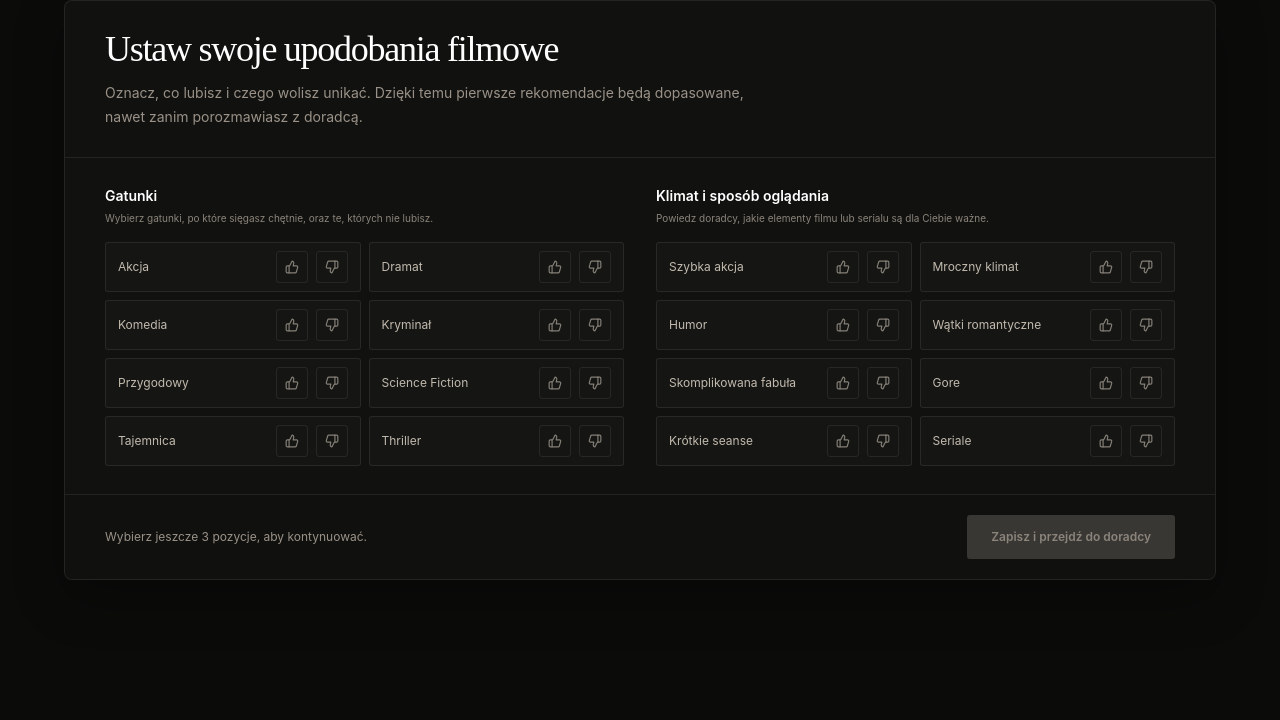
TasteOnboardingPanel › requires at least one liked and one disliked choice
The image size is (1280, 720).
What coordinates should you click on to do the following:
click the button named "Lubię: Thriller"
I would click on:
 (555, 441)
Its box is [539,425,571,457].
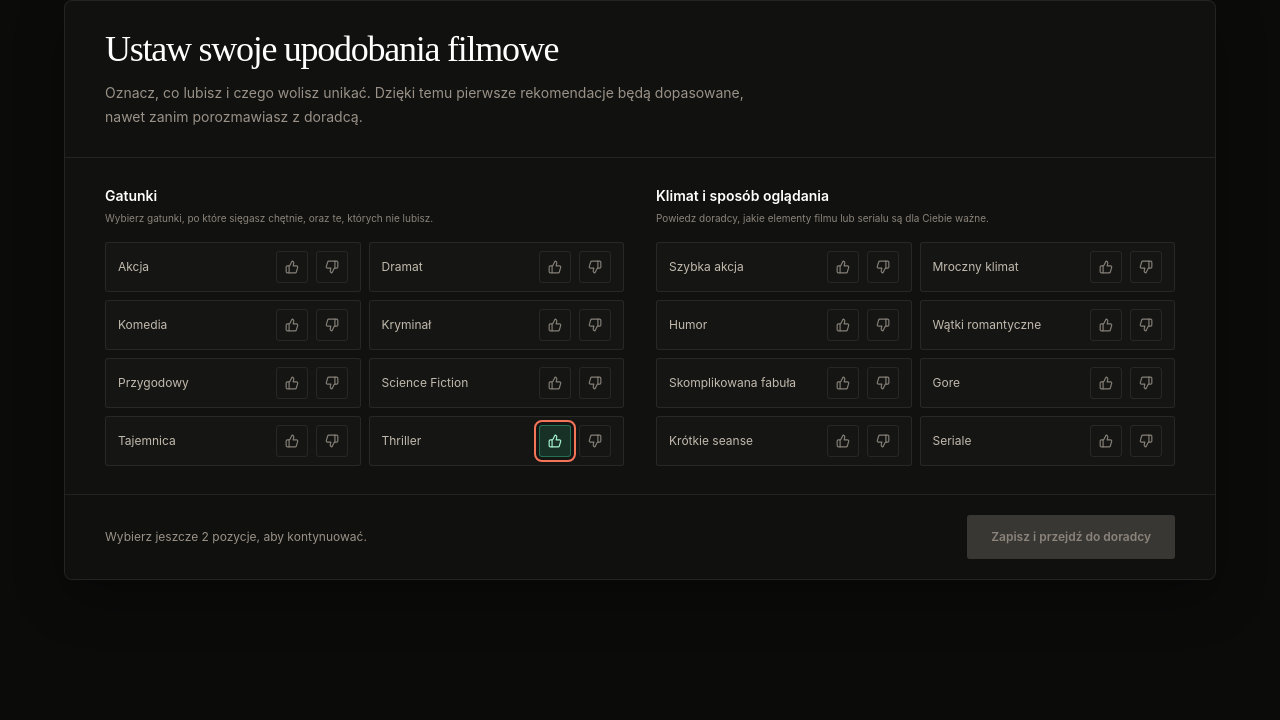
What coordinates should you click on to do the following:
click the button named "Lubię: Komedia"
I would click on:
 (292, 325)
Its box is [276,309,308,341].
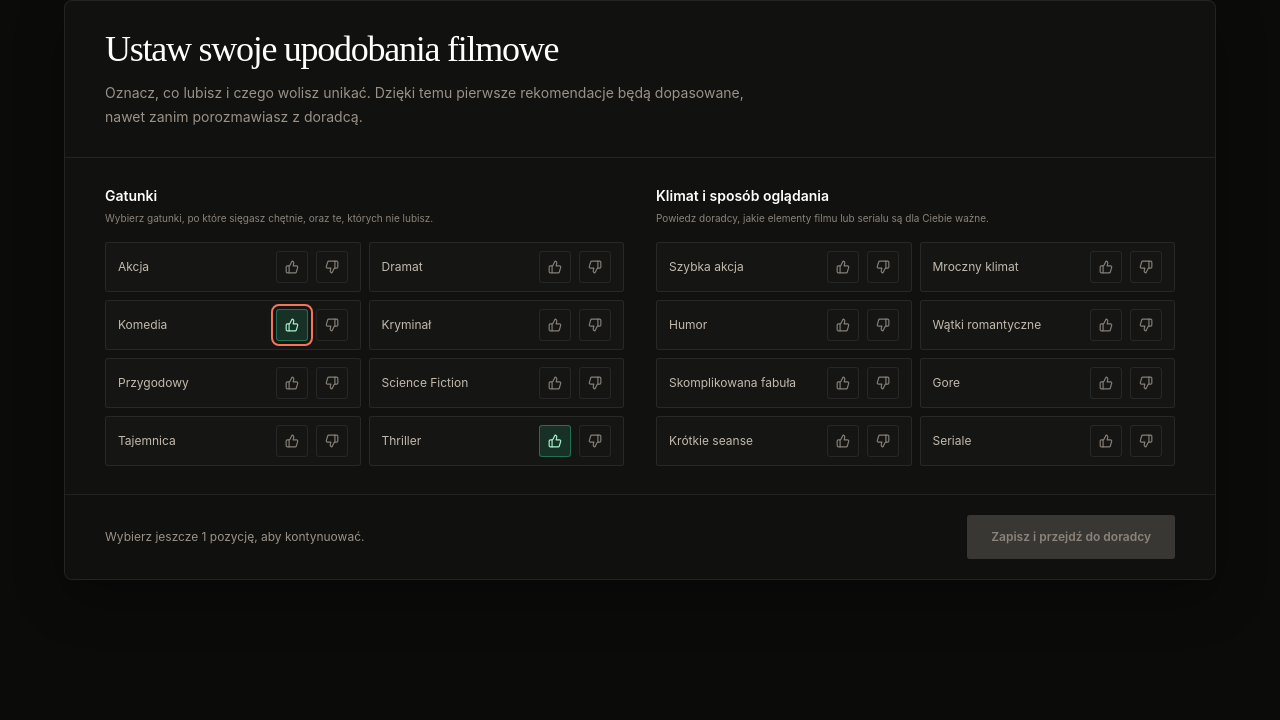
What coordinates should you click on to do the following:
click the button named "Lubię: Mroczny klimat"
I would click on:
 (1106, 267)
Its box is [1090,251,1122,283].
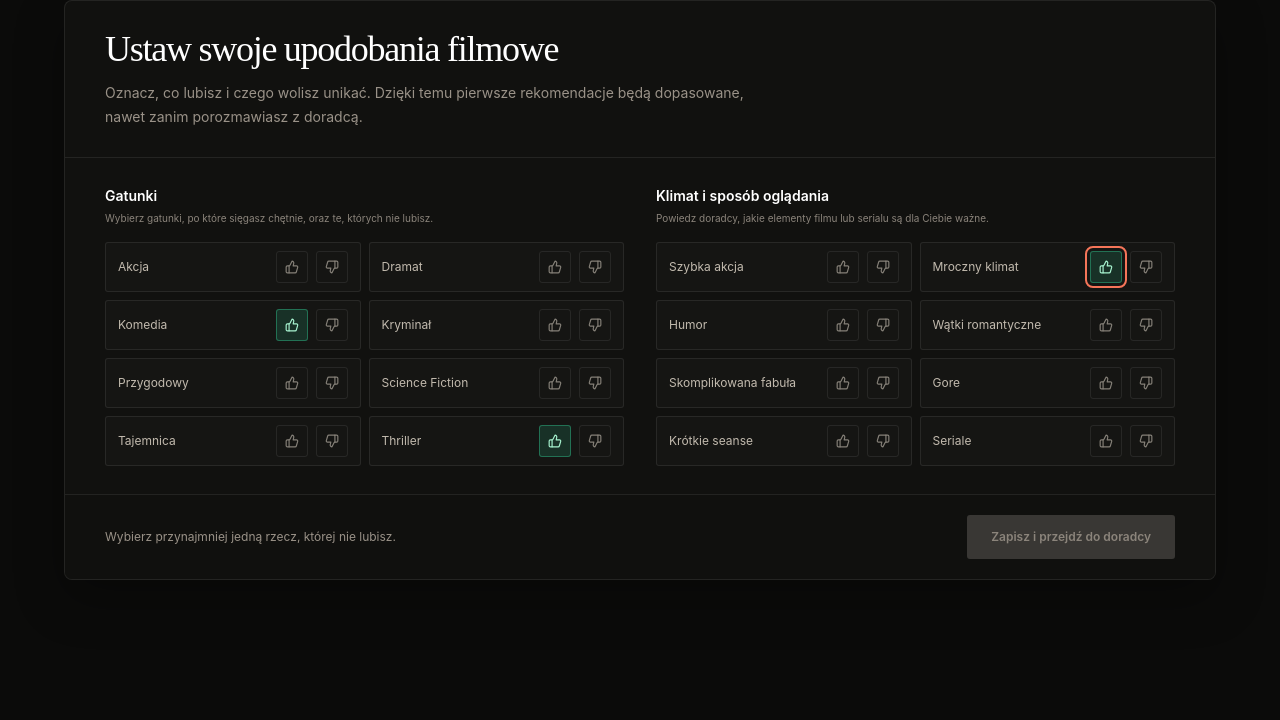
Expected: the button "Zapisz i przejdź do doradcy" is disabled, [967,515,1175,559]
Expected: the text "Wybierz przynajmniej jedną rzecz, której nie lubisz." is shown, [105,529,396,545]
What coordinates should you click on to do the following:
click the button named "Nie lubię: Komedia"
I would click on:
 (332, 325)
Its box is [316,309,348,341].
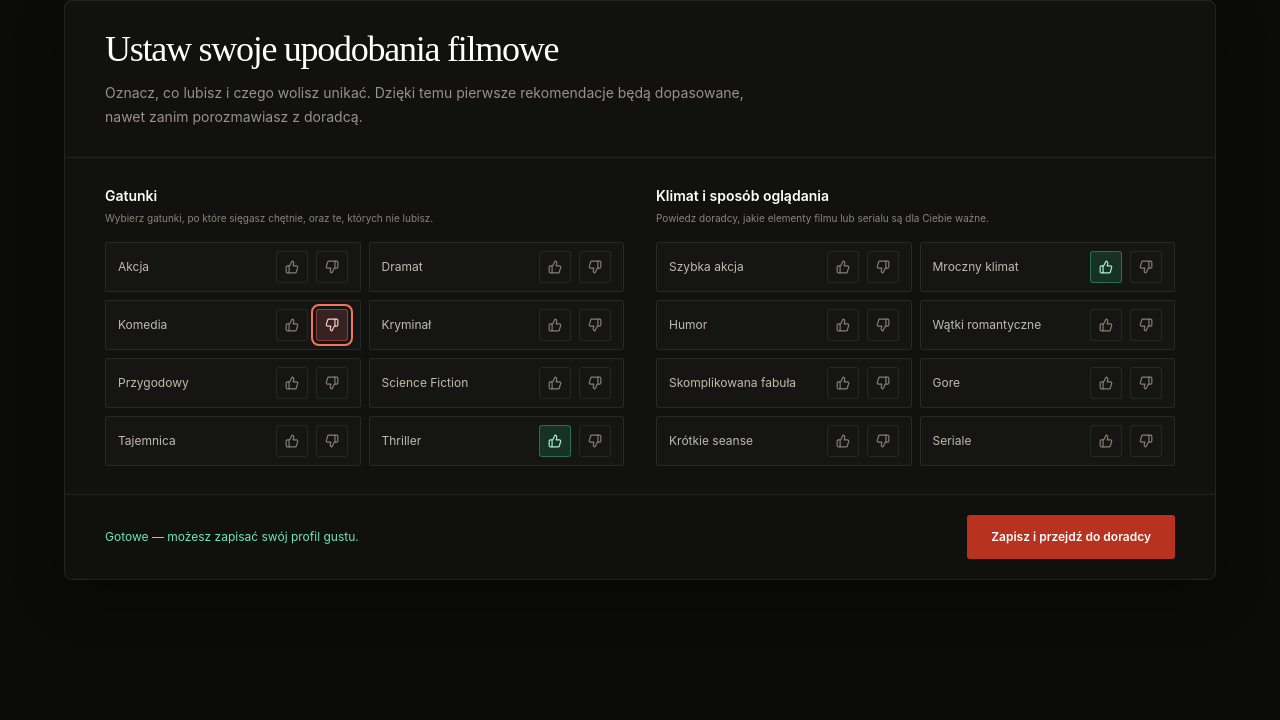
Expected: the button "Zapisz i przejdź do doradcy" is enabled, [967,515,1175,559]
